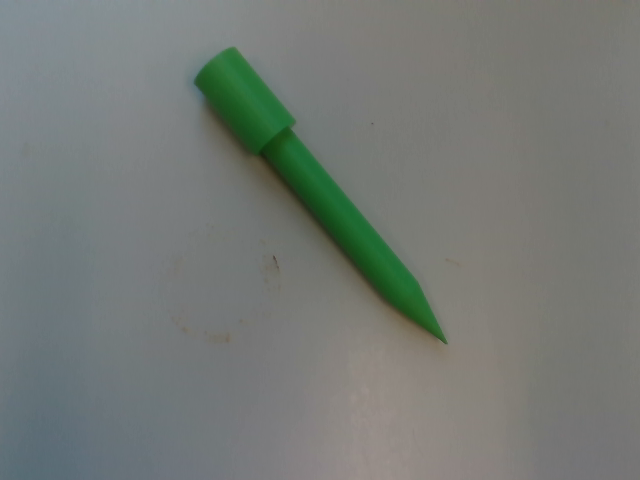Probe: (190, 41, 456, 351)
